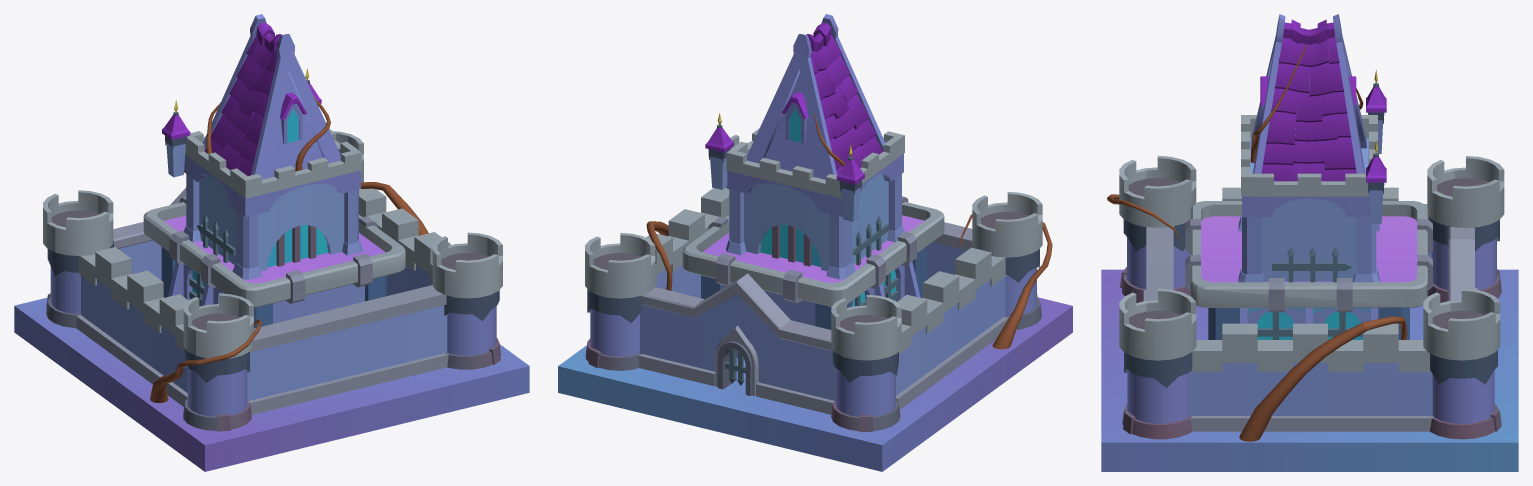
3 views of the same model, side by side, from view 1: azimuth 30°, elevation 25°; view 2: azimuth 150°, elevation 25°; view 3: azimuth 270°, elevation 25° (orthographic). The views are drawn at different scales.
Parts seen in each view (by area): view 1: Cube_L3 20.001, Cube_L3 18.001, Cube_L1 21.003, Cube_L2 50, Cube_L2 47, Cube_L2 48, Cube_L3 3.006, Cube_L1 19.004, Cube_L1 9.007, Cube_L2 49, Cube_L3.007, Cube_L2 44 (+44 smaller); view 2: Cube_L3 19.001, Cube_L3 18.001, Cube_L3 20.001, Cube_L1 20.003, Cube_L2 36, Cube_L2 39, Cube_L3 1.006, Cube_L1 7.008, Cube_L1 18.004, Cube_L3.007, Cube_L2 9.006, Cube_L2 3.009 (+47 smaller); view 3: Cube_L3 20.001, Cube_L3 5.005, Cube_L2 31, Cube_L2 33, Cube_L2 32, Cube_L1 13.005, Cube_L1 24.003, Cube_L2 56, Cube_L2 34, Cube_L1 14.005, Cube_L1 21.003, Cube_L1 12.006 (+51 smaller).
Part boxes in pixels (x1,y1,x2,y2): Cube_L3 20.001: (164, 344, 529, 471); Cube_L3 18.001: (45, 325, 183, 441); Cube_L1 21.003: (221, 183, 344, 271); Cube_L2 50: (347, 305, 447, 376); Cube_L2 47: (247, 329, 346, 401); Cube_L2 48: (250, 285, 446, 352); Cube_L3 3.006: (246, 248, 405, 307); Cube_L1 19.004: (241, 149, 361, 217); Cube_L1 9.007: (250, 51, 340, 179); Cube_L2 49: (247, 353, 448, 414); Cube_L3.007: (143, 213, 249, 298); Cube_L2 44: (81, 276, 137, 355); Cube_L3 19.001: (644, 373, 913, 471); Cube_L3 18.001: (736, 331, 1032, 448); Cube_L3 20.001: (558, 297, 1072, 413); Cube_L1 20.003: (744, 183, 867, 271); Cube_L2 36: (738, 295, 835, 400); Cube_L2 39: (640, 294, 737, 371); Cube_L3 1.006: (682, 248, 842, 306); Cube_L1 7.008: (747, 51, 837, 179); Cube_L1 18.004: (726, 149, 842, 216); Cube_L3.007: (838, 213, 944, 304); Cube_L2 9.006: (831, 307, 901, 360); Cube_L2 3.009: (585, 245, 655, 298); Cube_L3 20.001: (1101, 269, 1518, 471); Cube_L3 5.005: (1197, 278, 1420, 312); Cube_L2 31: (1310, 362, 1432, 415); Cube_L2 33: (1189, 362, 1310, 415); Cube_L2 32: (1191, 323, 1310, 371); Cube_L1 13.005: (1266, 88, 1350, 145); Cube_L1 24.003: (1250, 173, 1368, 217); Cube_L2 56: (1310, 323, 1430, 371); Cube_L2 34: (1190, 416, 1433, 431); Cube_L1 14.005: (1261, 137, 1356, 181); Cube_L1 21.003: (1250, 138, 1308, 281); Cube_L1 12.006: (1274, 35, 1344, 96).
Bounding box in the file's own units: 20.67 × 20.49 × 20.96.
